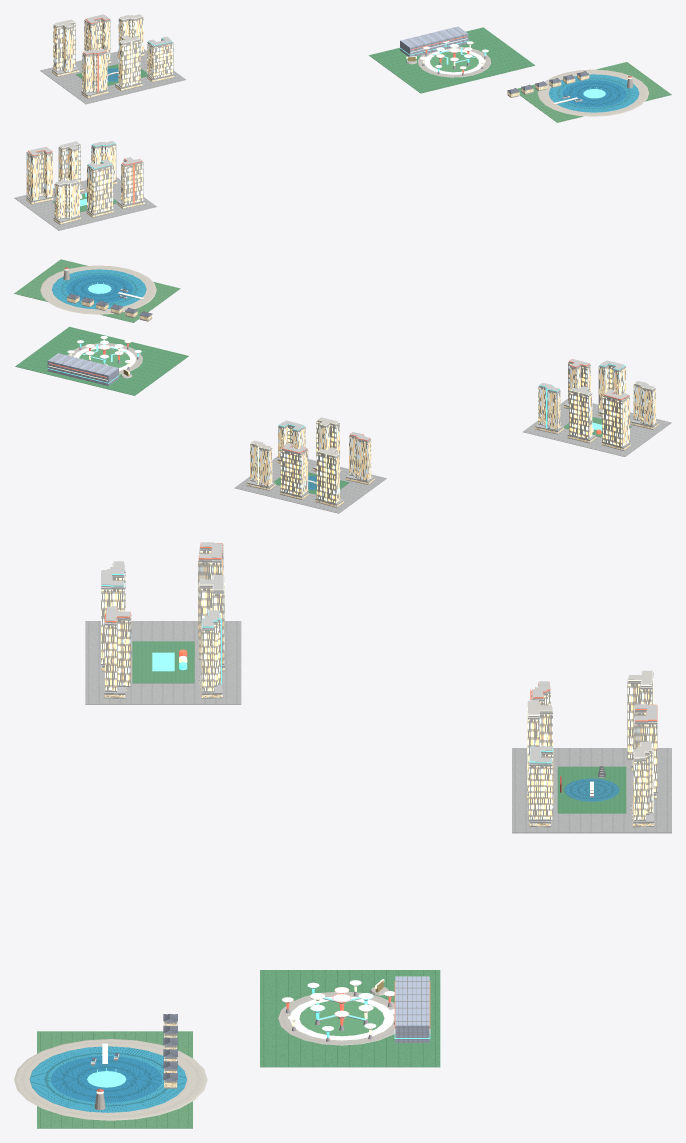
Rendered from vinhomes_grandpark.glb.
The picture shows the model from 3 angles, top to bottom: view 1: azimuth 30°, elevation 25°; view 2: azimuth 150°, elevation 25°; view 3: azimuth 270°, elevation 25°; orthographic projection. The views are drawn at different scales.
Visible parts, largest first — view 1: LM_R2_05C_THE_RAINBOW_CLUSTER, LM_R2_05D_THE_ORIGAMI_CLUSTER, LM_R2_05A_LIGHT_PARK_36HA, LM_R2_05B_ARTIFICIAL_BEACH_LAGOON; view 2: LM_R2_05D_THE_ORIGAMI_CLUSTER, LM_R2_05C_THE_RAINBOW_CLUSTER, LM_R2_05A_LIGHT_PARK_36HA, LM_R2_05B_ARTIFICIAL_BEACH_LAGOON; view 3: LM_R2_05A_LIGHT_PARK_36HA, LM_R2_05D_THE_ORIGAMI_CLUSTER, LM_R2_05B_ARTIFICIAL_BEACH_LAGOON, LM_R2_05C_THE_RAINBOW_CLUSTER.
Part boxes in pixels (x1=…): LM_R2_05C_THE_RAINBOW_CLUSTER: x1=14, y1=141, x2=156, y2=230; LM_R2_05D_THE_ORIGAMI_CLUSTER: x1=40, y1=14, x2=185, y2=104; LM_R2_05A_LIGHT_PARK_36HA: x1=369, y1=26, x2=534, y2=93; LM_R2_05B_ARTIFICIAL_BEACH_LAGOON: x1=507, y1=62, x2=671, y2=122; LM_R2_05D_THE_ORIGAMI_CLUSTER: x1=234, y1=417, x2=386, y2=513; LM_R2_05C_THE_RAINBOW_CLUSTER: x1=523, y1=358, x2=671, y2=456; LM_R2_05A_LIGHT_PARK_36HA: x1=15, y1=326, x2=188, y2=395; LM_R2_05B_ARTIFICIAL_BEACH_LAGOON: x1=14, y1=259, x2=180, y2=322; LM_R2_05A_LIGHT_PARK_36HA: x1=260, y1=970, x2=440, y2=1067; LM_R2_05D_THE_ORIGAMI_CLUSTER: x1=512, y1=670, x2=671, y2=833; LM_R2_05B_ARTIFICIAL_BEACH_LAGOON: x1=14, y1=1013, x2=207, y2=1128; LM_R2_05C_THE_RAINBOW_CLUSTER: x1=85, y1=542, x2=241, y2=704.
Size of the model in its own units: 1463 by 115 by 802.
2 materials, 2 textured.
